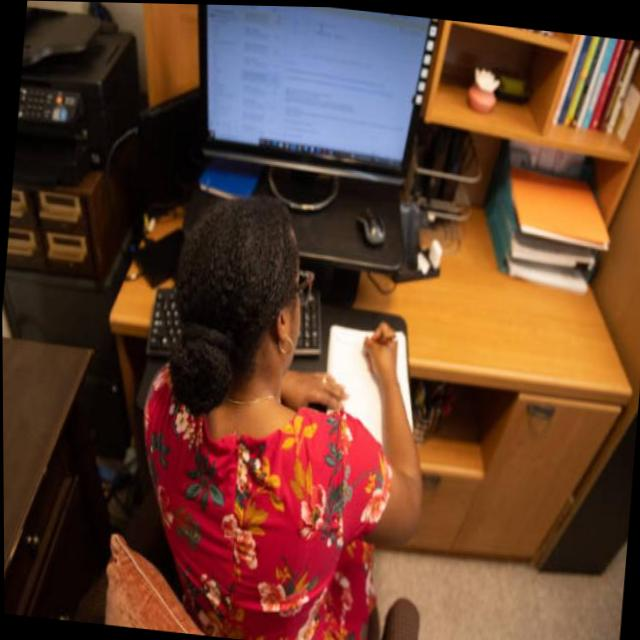no helmet: (140, 150, 354, 448)
